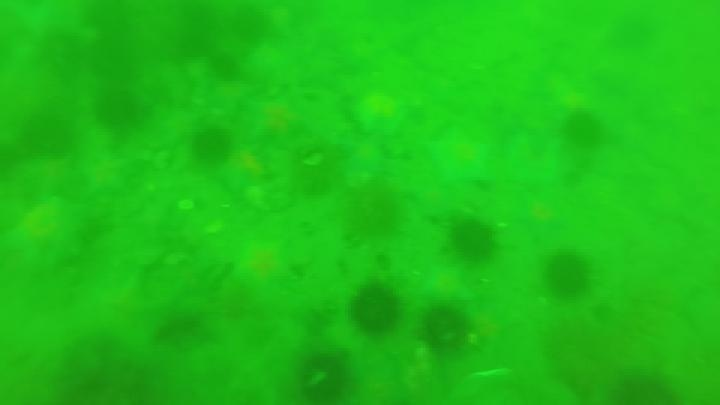echinus: (4, 196, 99, 274), (56, 334, 154, 405), (543, 319, 617, 393), (344, 184, 402, 239), (295, 350, 354, 403), (348, 283, 402, 337), (20, 110, 77, 159), (419, 303, 472, 354), (87, 35, 138, 84), (609, 370, 680, 404), (543, 251, 592, 300), (448, 217, 498, 264), (93, 88, 143, 132), (605, 14, 658, 52), (153, 309, 204, 345), (190, 126, 234, 167), (562, 110, 605, 150), (229, 7, 273, 46), (206, 51, 242, 83), (372, 250, 395, 273)
starfish: (3, 196, 99, 274), (228, 237, 297, 299), (425, 128, 495, 188), (243, 93, 310, 150), (350, 90, 411, 137), (76, 153, 137, 200), (216, 146, 272, 195), (418, 265, 476, 307), (514, 198, 567, 239), (341, 140, 386, 179)
